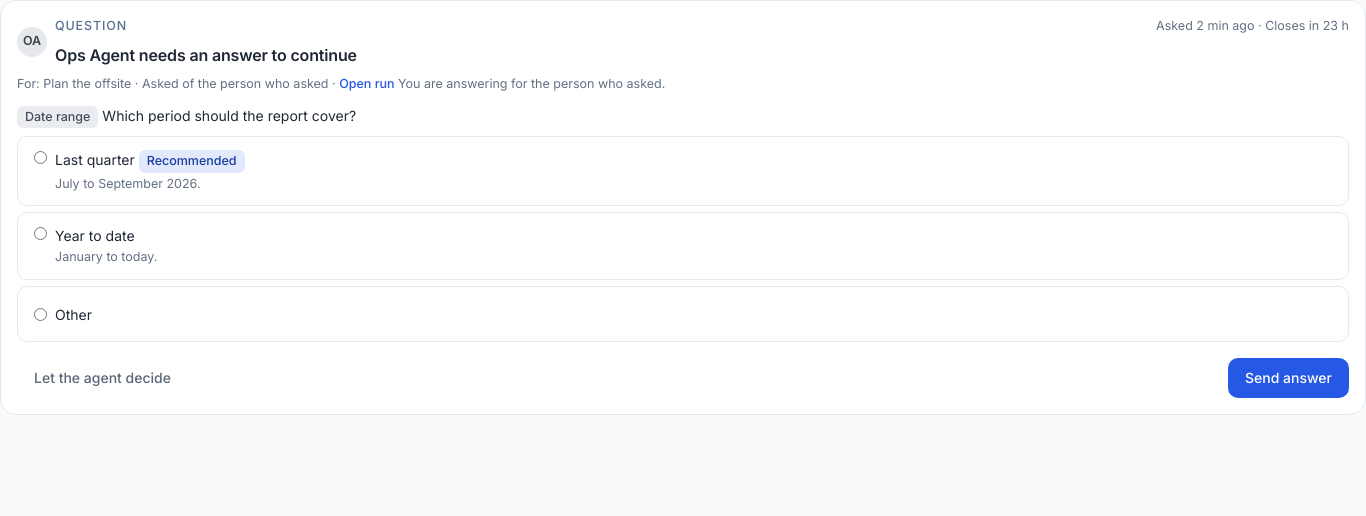
Test: QuestionCard, open state › shows the Other wording when a gap is left outside Chat
Click the button "Send answer": (1288, 378) [1228,358,1349,398]
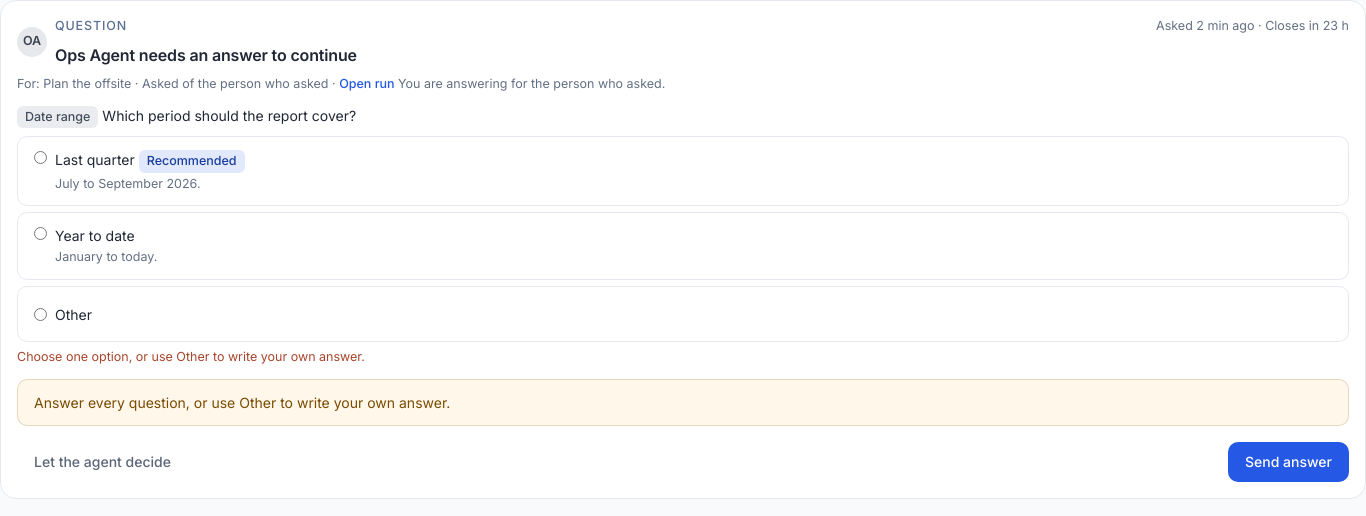
expect the text "Answer every question, or use Other to write your own answer." is shown: met, box [34,394,450,411]
